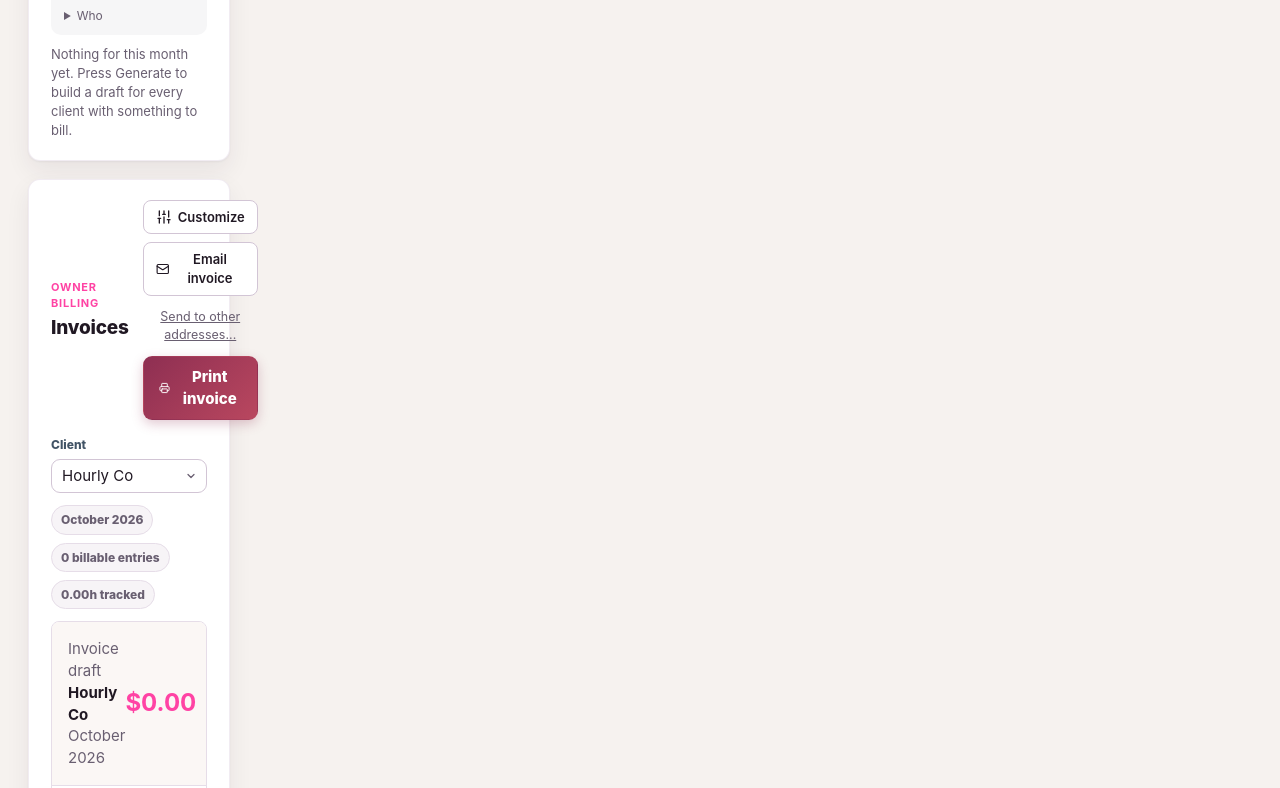
Test: Print invoice asks which month › disables Print while the month is empty
(page scrolled)
Click the button "Print invoice": (200,388) [143, 356, 258, 420]
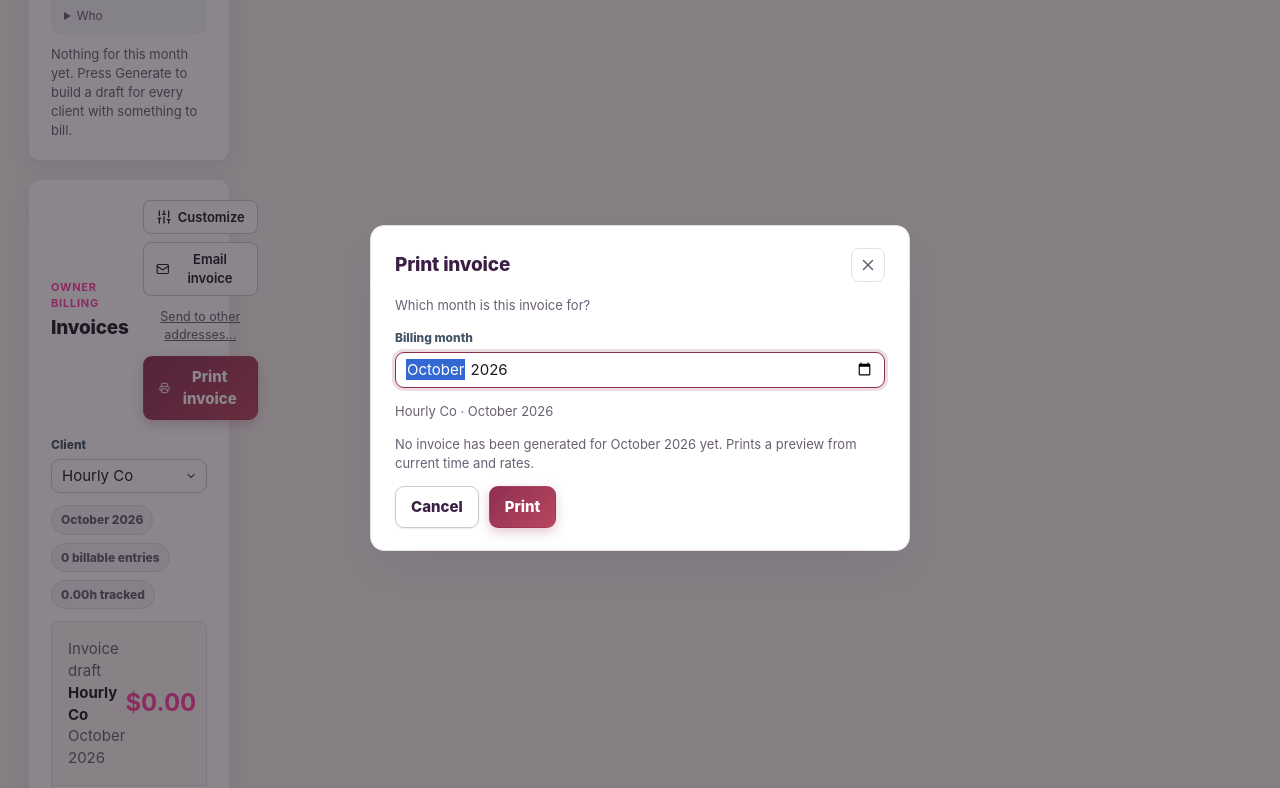
Clear the field labelled "Billing month": (640,370) [395, 352, 885, 388]
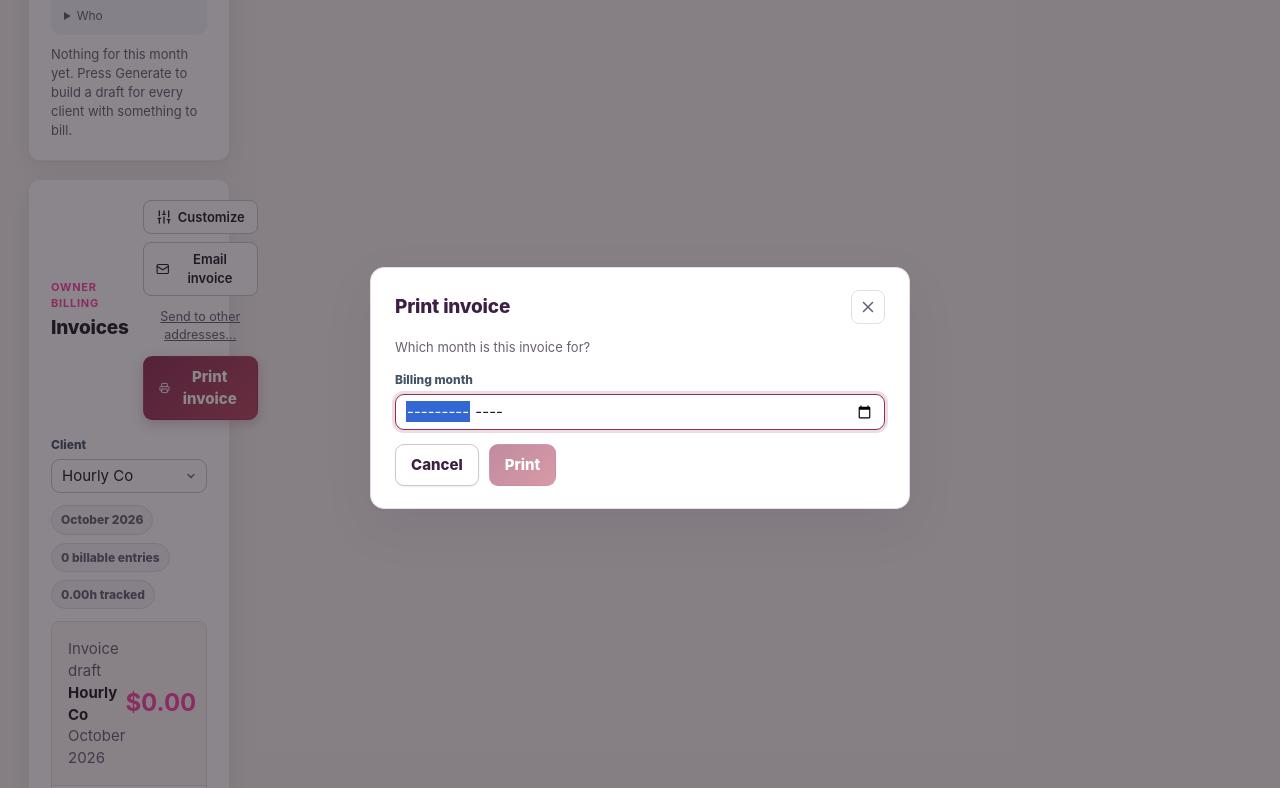
Expected: the button "Print" is disabled, [489, 444, 556, 486]
In the field labelled "Billing month": (640,412) [395, 394, 885, 430], type "2026-09"
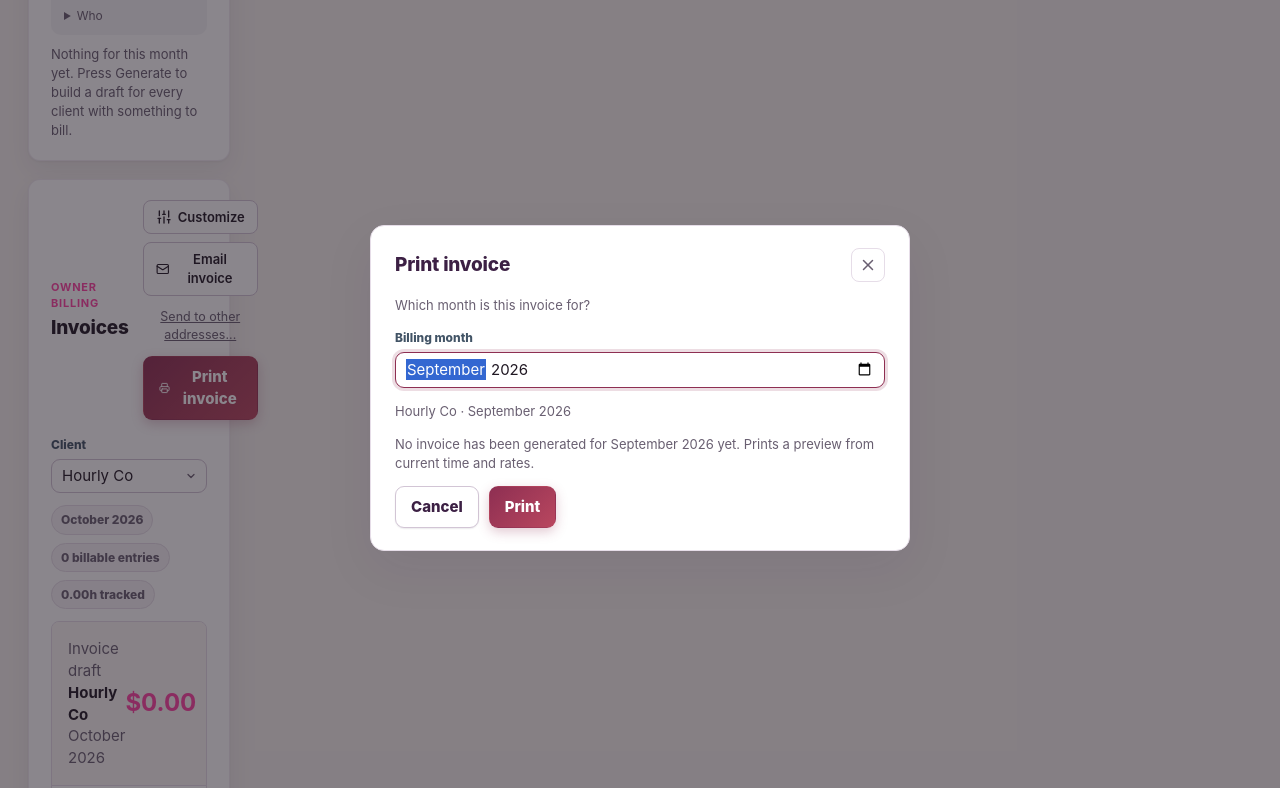
Expected: the button "Print" is enabled, [489, 486, 556, 528]
